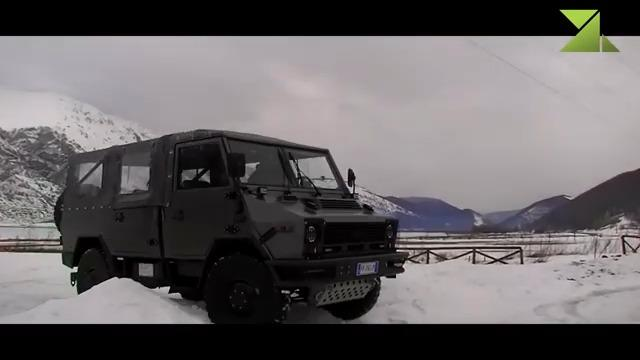MIL_HMMWV: (54, 127, 410, 325)
